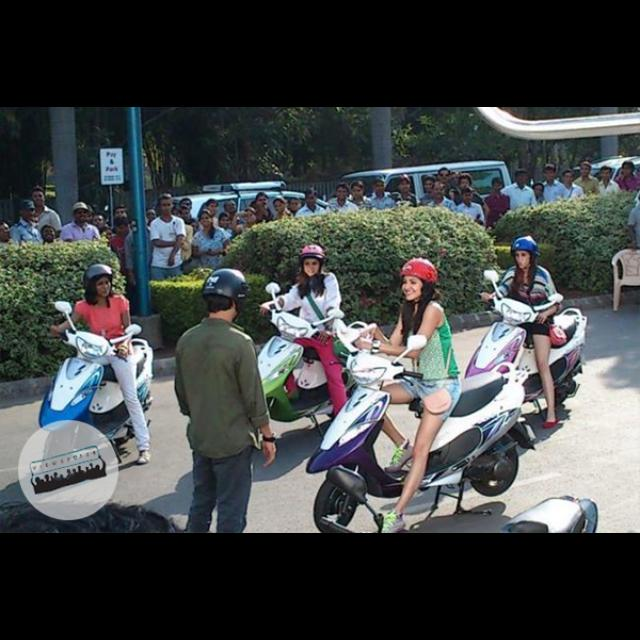With Helmet: (195, 258, 255, 322), (393, 252, 441, 308), (77, 256, 121, 306), (505, 229, 543, 275), (294, 240, 332, 282)
